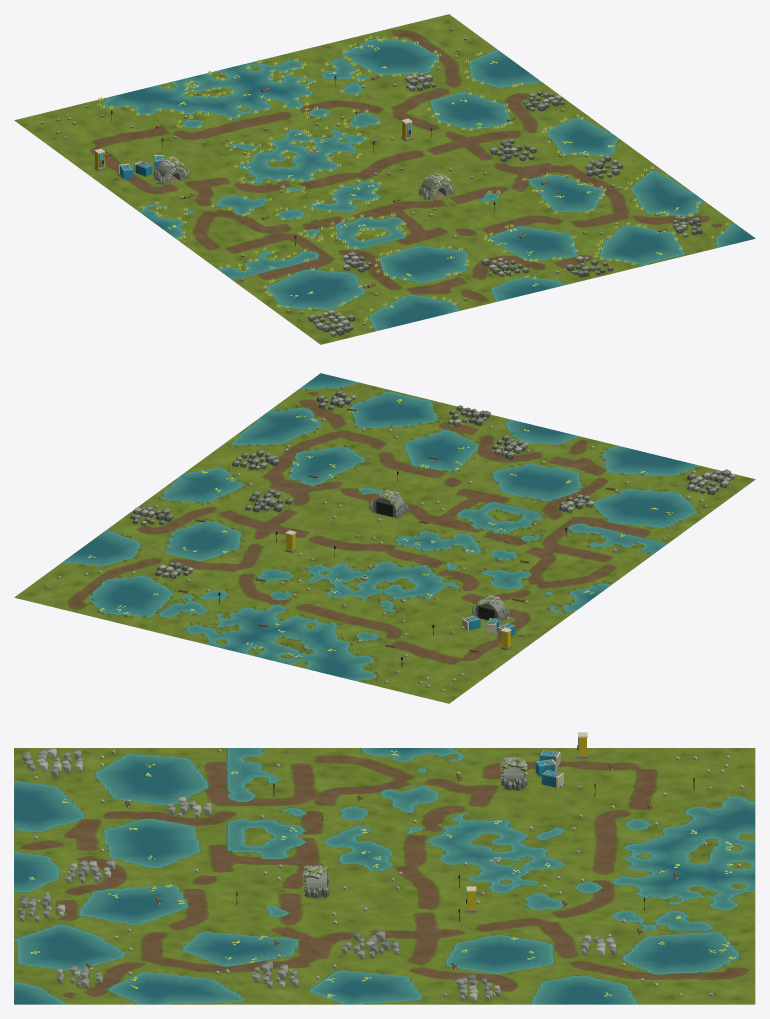
Rendered from terrain-props.glb.
3 views of the same model, one above another, from view 1: azimuth 30°, elevation 25°; view 2: azimuth 150°, elevation 25°; view 3: azimuth 270°, elevation 25° (orthographic). The views are drawn at different scales.
Parts seen in each view (by area): view 1: hm05-flat-authored-ground-water-road-tessellation, hm05_fixed_landmarks_shore_plants; view 2: hm05-flat-authored-ground-water-road-tessellation, hm05_fixed_landmarks_shore_plants; view 3: hm05-flat-authored-ground-water-road-tessellation, hm05_fixed_landmarks_shore_plants.
Part boxes in pixels (x1=…): hm05-flat-authored-ground-water-road-tessellation: x1=14, y1=14, x2=755, y2=344; hm05_fixed_landmarks_shore_plants: x1=41, y1=28, x2=729, y2=336; hm05-flat-authored-ground-water-road-tessellation: x1=14, y1=373, x2=755, y2=703; hm05_fixed_landmarks_shore_plants: x1=45, y1=386, x2=735, y2=691; hm05-flat-authored-ground-water-road-tessellation: x1=14, y1=748, x2=755, y2=1004; hm05_fixed_landmarks_shore_plants: x1=17, y1=732, x2=754, y2=1001.
Bounding box in the file's own units: 64 × 2.99 × 78.21.
Materials: 3 (2 with a texture image).
